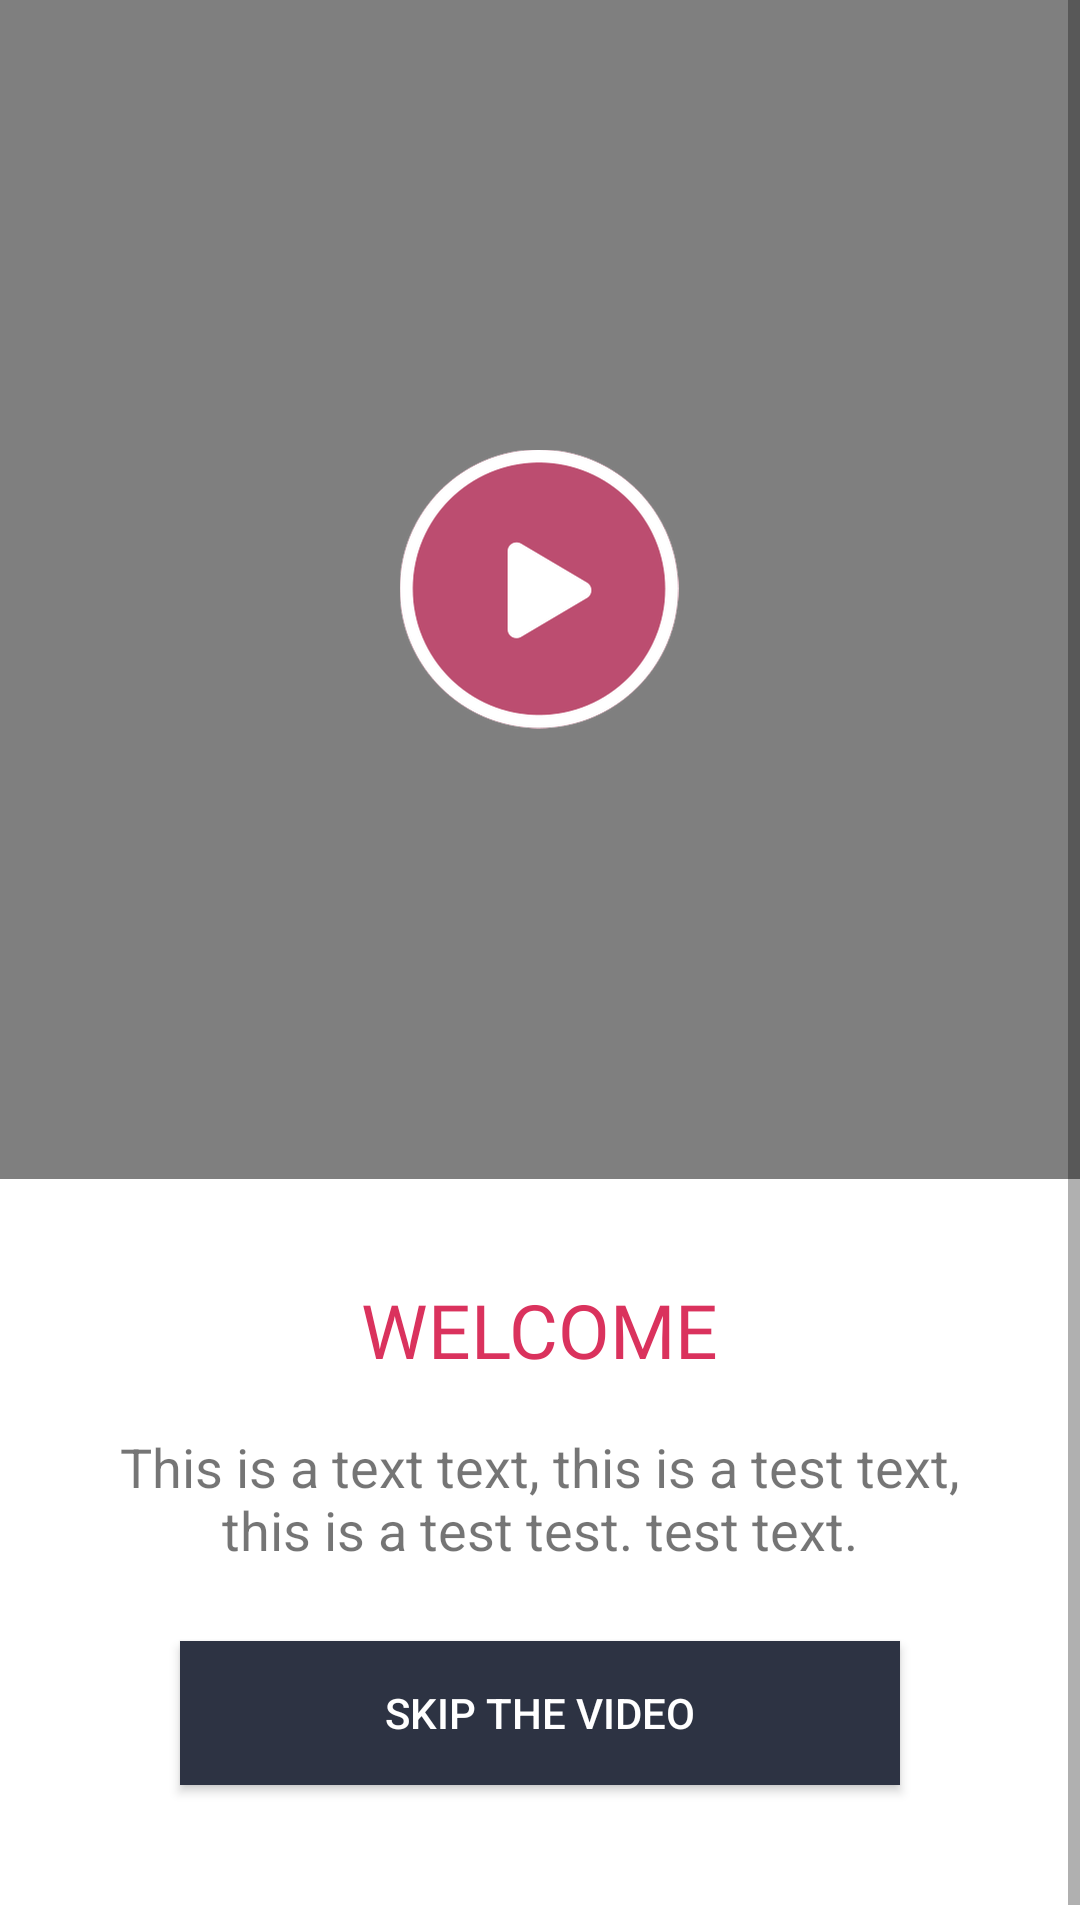

Icon click points for this 1080*1920 phone screenshot, format (x=x, y=y):
video: (x=539, y=589)
